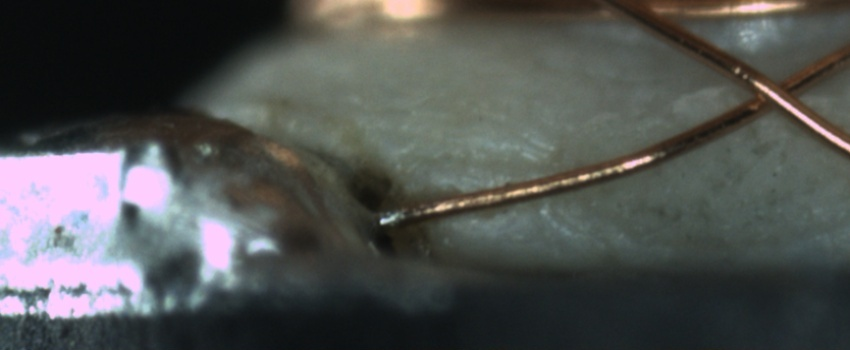CL: (732, 59, 820, 124)
DL: (415, 139, 548, 191)
TS: (371, 207, 404, 234)
